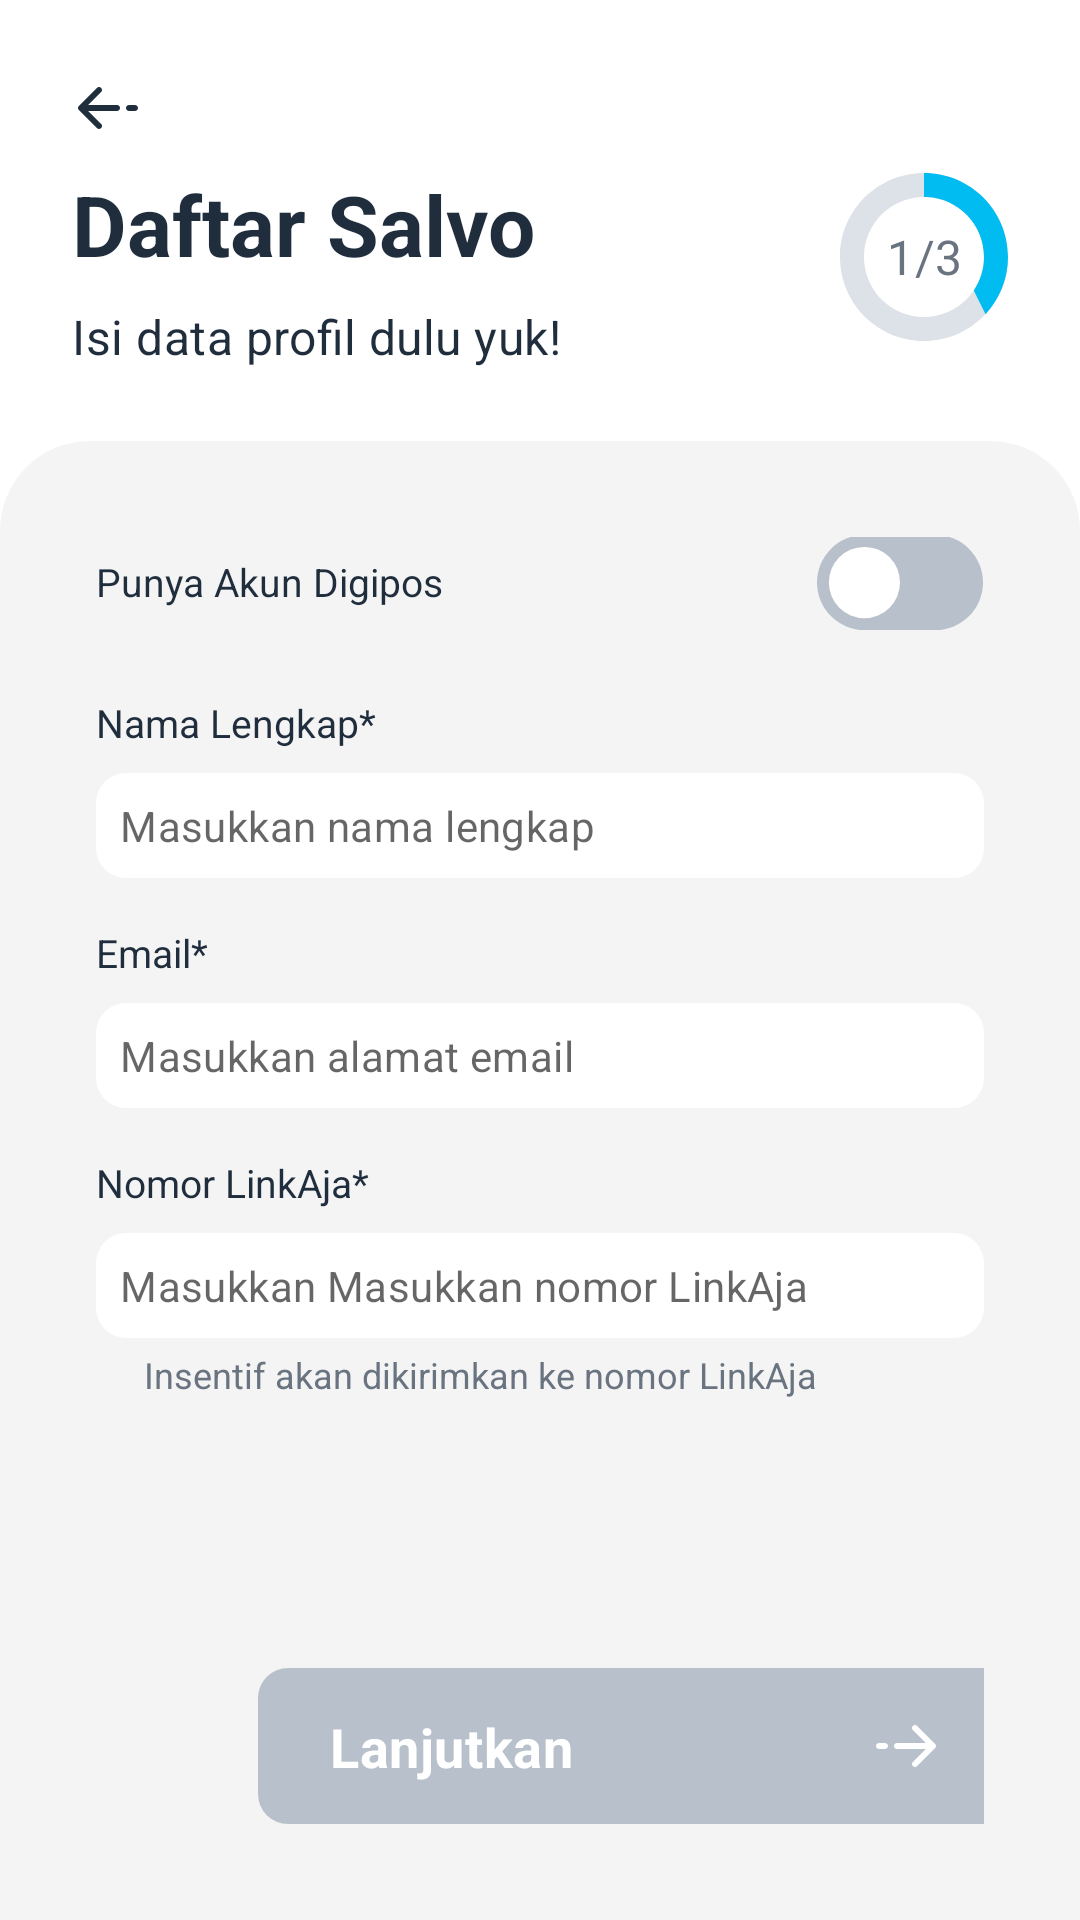

Locate icon controls on the screen. Image size 1080 x 1920, boxes as (x1=x1, y1=y1, x2=x2, y2=y2).
back: (x1=78, y1=87, x2=138, y2=129)
forward: (x1=876, y1=1725, x2=936, y2=1767)
toggle: (x1=817, y1=537, x2=983, y2=630)
